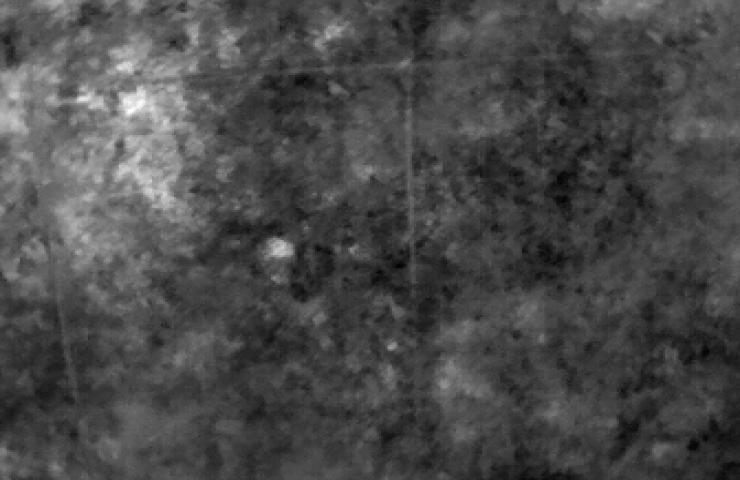landmines: (264, 238, 295, 263)
